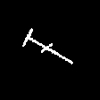double_crochet: (23, 28, 72, 63)
